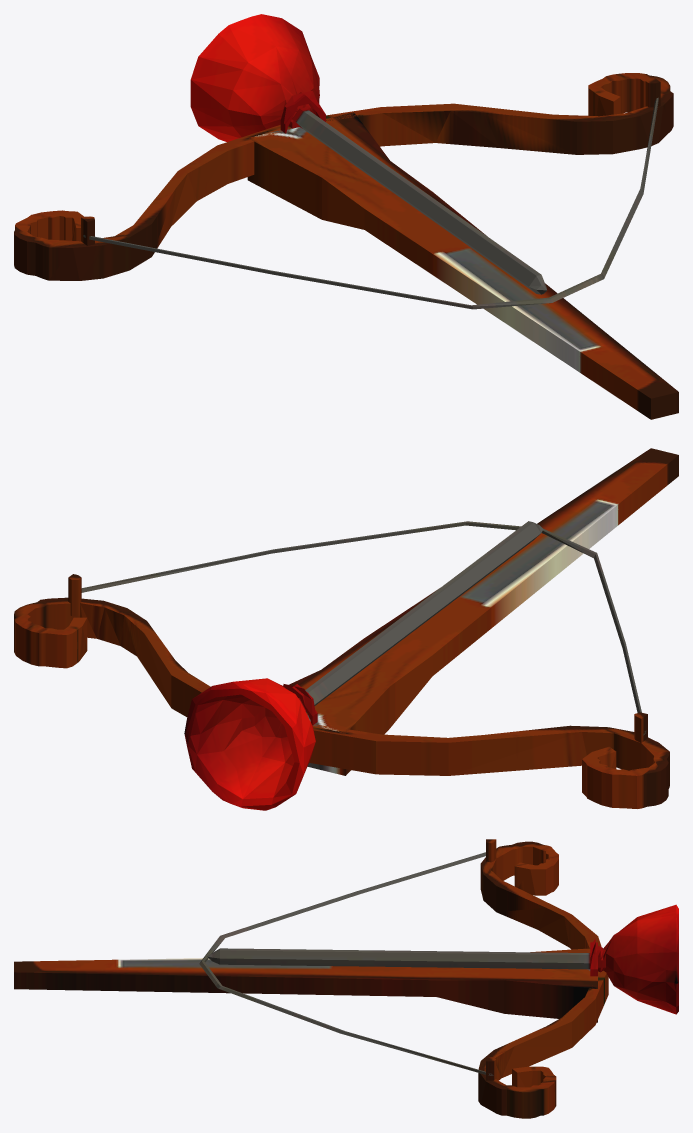
The model's file is Crossbow.glb.
3 views of the same model, one above another, from view 1: azimuth 30°, elevation 25°; view 2: azimuth 150°, elevation 25°; view 3: azimuth 270°, elevation 25° (orthographic). The views are drawn at different scales.
Visible parts, largest first — view 1: Crossbow; view 2: Crossbow; view 3: Crossbow.
Boxes of the visible parts, x1,y1,x2,y2 form: Crossbow: (14, 14, 678, 419); Crossbow: (14, 448, 678, 810); Crossbow: (14, 839, 678, 1118).
Bounding box in the file's own units: 195 × 35.72 × 219.
Materials: 1 (1 with a texture image).
